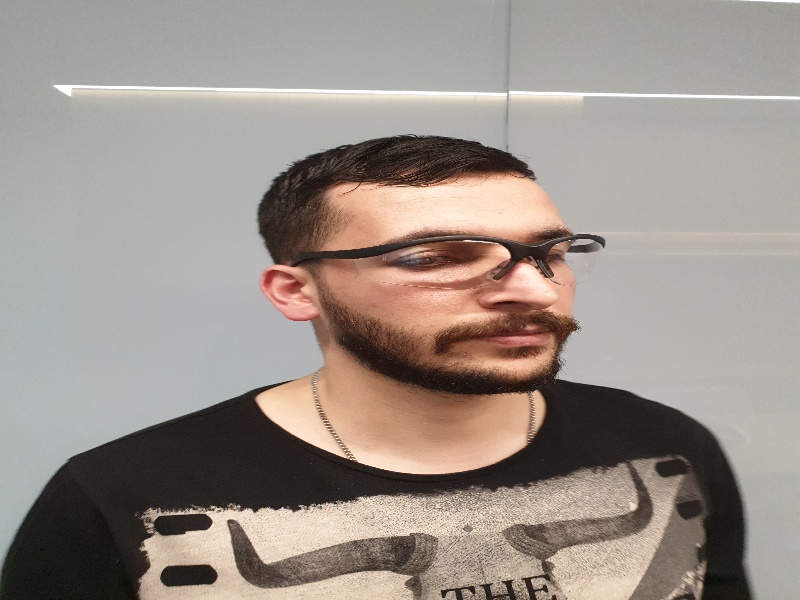Gozluk: (287, 235, 606, 284)
